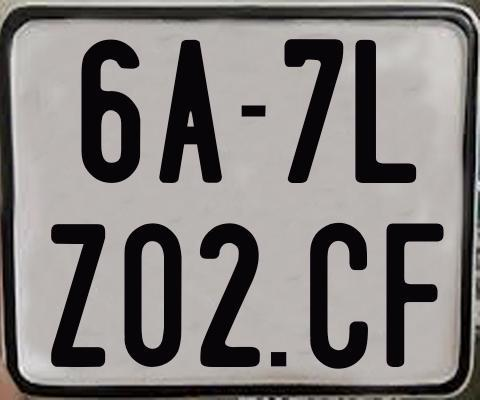0: (123, 223, 183, 367)
2: (197, 222, 263, 372)
6: (79, 36, 139, 181)
7: (281, 37, 341, 182)
A: (158, 39, 224, 186)
C: (309, 220, 367, 372)
F: (384, 221, 444, 366)
L: (354, 39, 420, 182)
Z: (48, 223, 102, 372)
